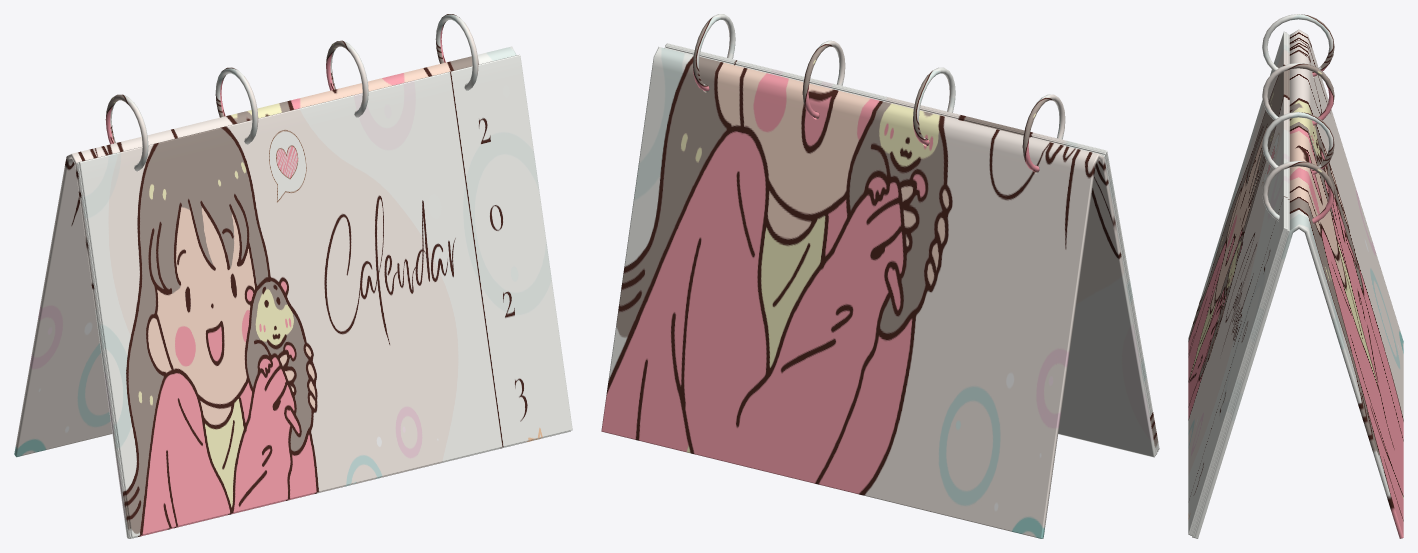
The model's file is cover.glb.
3 views of the same model, side by side, from view 1: azimuth 30°, elevation 25°; view 2: azimuth 150°, elevation 25°; view 3: azimuth 270°, elevation 25° (orthographic). The views are drawn at different scales.
Visible parts, largest first — view 1: Paper-002, Acrylic, Metal-rings, Pape-005, Paper-003; view 2: Acrylic, Metal-rings, Pape-005, Paper-004, Paper-002, Paper-003, Paper-006; view 3: Acrylic, Paper-002, Metal-rings, Paper-001, Paper-003, Pape-005, Paper-006, Paper-004.
Boxes of the visible parts, x1,y1,x2,y2 form: Paper-002: (79, 55, 572, 537); Acrylic: (14, 46, 516, 538); Metal-rings: (105, 14, 478, 171); Pape-005: (77, 83, 467, 537); Paper-003: (94, 84, 570, 538); Acrylic: (601, 47, 1156, 538); Metal-rings: (693, 14, 1065, 171); Pape-005: (665, 46, 1158, 451); Paper-004: (666, 44, 1158, 450); Paper-002: (667, 43, 1159, 448); Paper-003: (664, 47, 1157, 453); Paper-006: (665, 45, 1105, 152); Acrylic: (1194, 29, 1403, 538); Paper-002: (1188, 31, 1284, 534); Metal-rings: (1262, 14, 1334, 223); Paper-001: (1193, 35, 1289, 537); Paper-003: (1192, 34, 1288, 537); Pape-005: (1191, 33, 1287, 535); Paper-006: (1190, 32, 1286, 535); Paper-004: (1189, 32, 1285, 534).
Size of the model in its own units: 0.1703 by 0.143 by 0.0791.
Materials: 2 (2 with a texture image).
